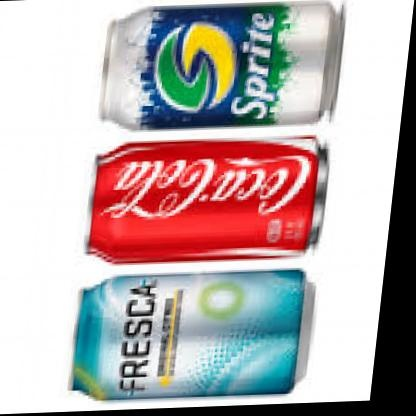trash: (100, 1, 342, 128), (88, 137, 326, 262), (73, 270, 303, 398)
